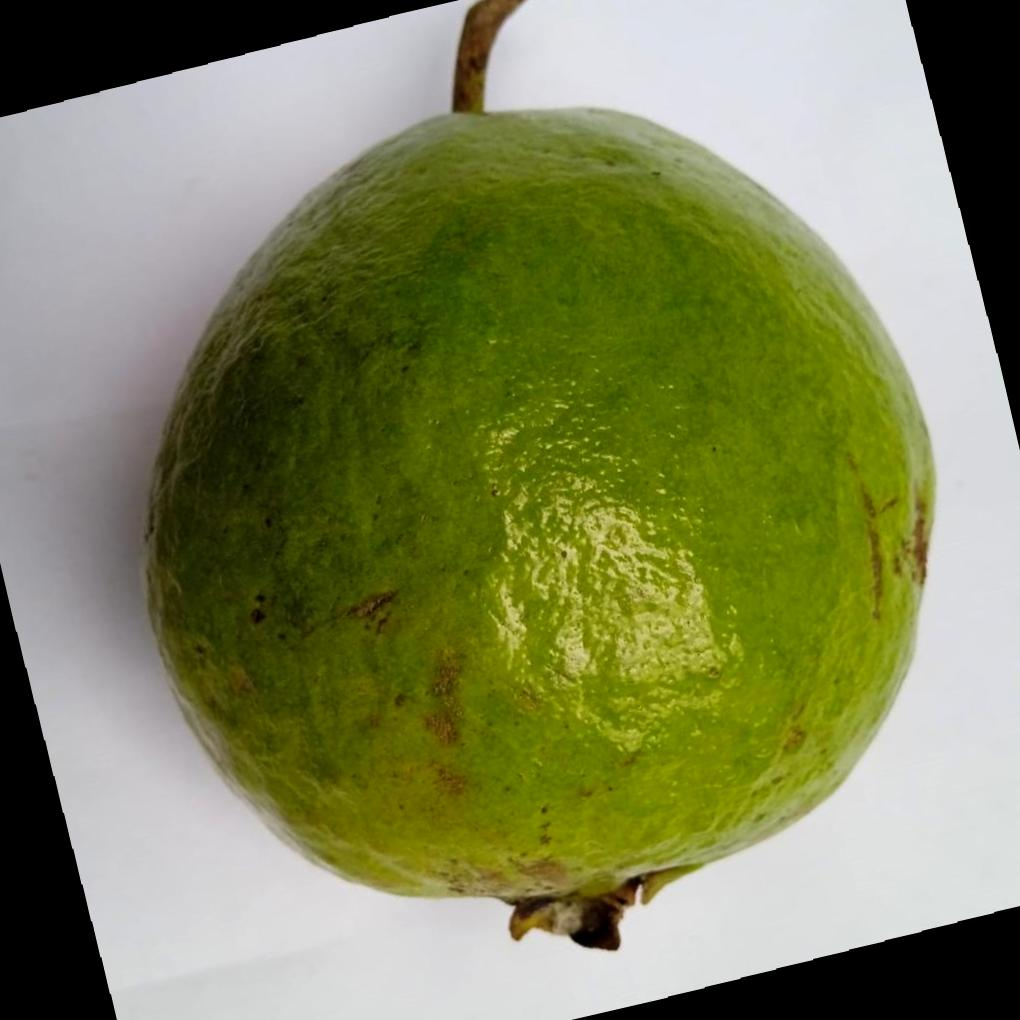FreshGuava: (141, 53, 936, 947)
